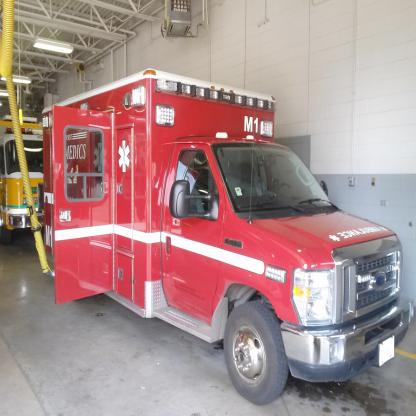Ambulance: (39, 67, 414, 405)
